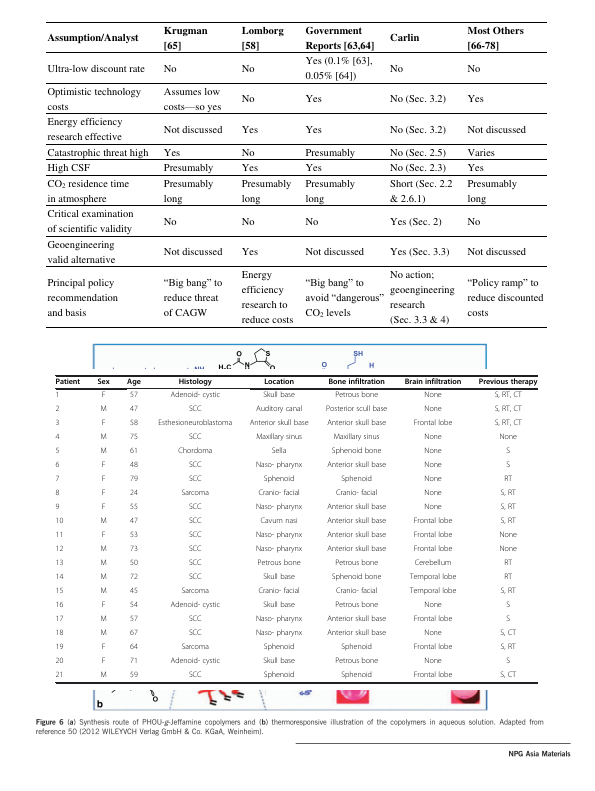borderless: (46, 20, 547, 327), (54, 374, 537, 682)
cell: (389, 268, 456, 327), (305, 274, 385, 320), (466, 274, 545, 319), (46, 276, 119, 319), (241, 268, 294, 327), (163, 274, 223, 319), (46, 85, 142, 113), (46, 207, 135, 236), (46, 177, 130, 205), (46, 115, 123, 144), (305, 23, 375, 52), (305, 54, 374, 83), (46, 238, 116, 266), (389, 177, 454, 205), (466, 23, 525, 52), (163, 85, 222, 114), (466, 177, 518, 205), (163, 177, 214, 205), (241, 177, 292, 205), (305, 177, 356, 205), (46, 146, 149, 159), (163, 23, 209, 52), (46, 31, 139, 45), (46, 62, 146, 75), (241, 23, 285, 52), (389, 245, 451, 259), (466, 245, 527, 259), (163, 245, 223, 259), (305, 245, 365, 259), (389, 92, 447, 106), (389, 161, 447, 175), (466, 123, 527, 136), (163, 123, 223, 136), (157, 419, 233, 429), (389, 123, 447, 136), (389, 146, 447, 159), (163, 161, 214, 175), (389, 215, 443, 228), (305, 146, 356, 159), (46, 161, 91, 175), (325, 405, 388, 415), (326, 419, 387, 429), (326, 461, 387, 471), (326, 503, 387, 513), (326, 517, 387, 527), (326, 531, 387, 541), (326, 545, 387, 555), (326, 615, 387, 625), (326, 629, 387, 639), (249, 419, 309, 429), (478, 378, 538, 387), (327, 378, 386, 387), (404, 378, 462, 387), (169, 391, 221, 401), (169, 601, 221, 611), (169, 657, 221, 667), (331, 447, 382, 457), (331, 573, 382, 583), (255, 405, 303, 415), (255, 433, 303, 443), (255, 461, 303, 471), (255, 503, 303, 513), (255, 531, 303, 541), (255, 545, 303, 555), (409, 573, 457, 583), (409, 587, 457, 597), (255, 615, 303, 625), (255, 629, 303, 639), (333, 433, 380, 443), (334, 391, 379, 401), (334, 559, 379, 569), (334, 601, 379, 611), (334, 657, 379, 667), (257, 489, 301, 499), (257, 559, 301, 569), (257, 587, 301, 597), (389, 31, 420, 45), (335, 489, 378, 499), (335, 587, 378, 597), (413, 419, 453, 429), (259, 517, 299, 527), (413, 517, 453, 527), (413, 531, 453, 541), (413, 545, 453, 555), (413, 615, 453, 625), (413, 643, 453, 653), (413, 671, 453, 681), (466, 146, 496, 159), (414, 559, 452, 569), (177, 447, 213, 457), (262, 391, 296, 401), (262, 573, 296, 583), (262, 601, 296, 611), (262, 657, 296, 667), (340, 475, 373, 485), (340, 643, 373, 653), (340, 671, 373, 681), (263, 475, 295, 485), (263, 643, 295, 653), (263, 671, 295, 681), (178, 378, 213, 387), (180, 489, 210, 499), (180, 587, 210, 597), (180, 643, 210, 653), (494, 391, 523, 401), (494, 405, 523, 415), (494, 419, 523, 429), (263, 378, 295, 387), (466, 92, 485, 106), (466, 161, 485, 175), (305, 92, 323, 106), (241, 161, 259, 175), (305, 161, 323, 175), (241, 245, 259, 259), (241, 123, 259, 136), (305, 123, 323, 136), (163, 146, 181, 159), (55, 378, 81, 387), (241, 92, 256, 106), (423, 391, 443, 401), (423, 405, 443, 415), (423, 433, 443, 443), (498, 433, 518, 443), (423, 447, 443, 457), (423, 461, 443, 471), (423, 475, 443, 485), (423, 489, 443, 499), (423, 503, 443, 513), (498, 531, 518, 541), (498, 545, 518, 555), (423, 601, 443, 611), (423, 629, 443, 639), (423, 657, 443, 667), (163, 62, 178, 75), (241, 62, 256, 75), (389, 62, 404, 75), (466, 62, 481, 75), (241, 146, 256, 159), (163, 215, 178, 228), (241, 215, 256, 228), (466, 215, 481, 228), (305, 215, 319, 228), (499, 629, 517, 639), (499, 671, 517, 681), (500, 489, 517, 499), (500, 503, 517, 513), (500, 517, 517, 527), (500, 587, 517, 597), (500, 643, 517, 653), (271, 447, 287, 457), (126, 378, 142, 387), (188, 405, 202, 415), (188, 433, 202, 443), (188, 461, 202, 471), (188, 475, 202, 485), (188, 503, 202, 513), (188, 517, 202, 527), (188, 531, 202, 541), (188, 545, 202, 555), (188, 559, 202, 569), (188, 573, 202, 583), (188, 615, 202, 625), (188, 629, 202, 639), (188, 671, 202, 681), (96, 378, 111, 387), (129, 391, 139, 401), (129, 405, 139, 415), (129, 419, 139, 429), (129, 433, 139, 443), (129, 447, 139, 457), (129, 461, 139, 471), (129, 475, 139, 485), (503, 475, 513, 485), (129, 489, 139, 499), (129, 503, 139, 513), (129, 517, 139, 527), (129, 531, 139, 541), (129, 545, 139, 555), (129, 559, 139, 569), (503, 559, 513, 569), (129, 573, 139, 583), (503, 573, 513, 583), (129, 587, 139, 597), (129, 601, 139, 611), (129, 615, 139, 625), (129, 629, 139, 639), (129, 643, 139, 653), (129, 657, 139, 667), (129, 671, 139, 681), (99, 405, 108, 415), (99, 433, 108, 443), (99, 447, 108, 457), (55, 517, 64, 527), (99, 517, 108, 527), (55, 531, 64, 541), (55, 545, 64, 555), (99, 545, 108, 555), (55, 559, 64, 569), (99, 559, 108, 569), (55, 573, 64, 583), (99, 573, 108, 583), (55, 587, 64, 597), (99, 587, 108, 597), (55, 601, 64, 611), (55, 615, 64, 625), (99, 615, 108, 625), (55, 629, 64, 639), (99, 629, 108, 639), (55, 643, 64, 653), (55, 657, 64, 667), (55, 671, 64, 681), (99, 671, 108, 681), (505, 447, 511, 457), (505, 461, 511, 471), (505, 601, 511, 611), (505, 615, 511, 625), (505, 657, 511, 667), (55, 391, 60, 401), (101, 391, 106, 401), (55, 405, 60, 415), (55, 419, 60, 429), (101, 419, 106, 429), (55, 433, 60, 443), (55, 447, 60, 457), (55, 461, 60, 471), (101, 461, 106, 471), (55, 475, 60, 485), (101, 475, 106, 485), (55, 489, 60, 499), (101, 489, 106, 499), (55, 503, 60, 513), (101, 503, 106, 513), (101, 531, 106, 541), (101, 601, 106, 611), (101, 643, 106, 653), (101, 657, 106, 667)
